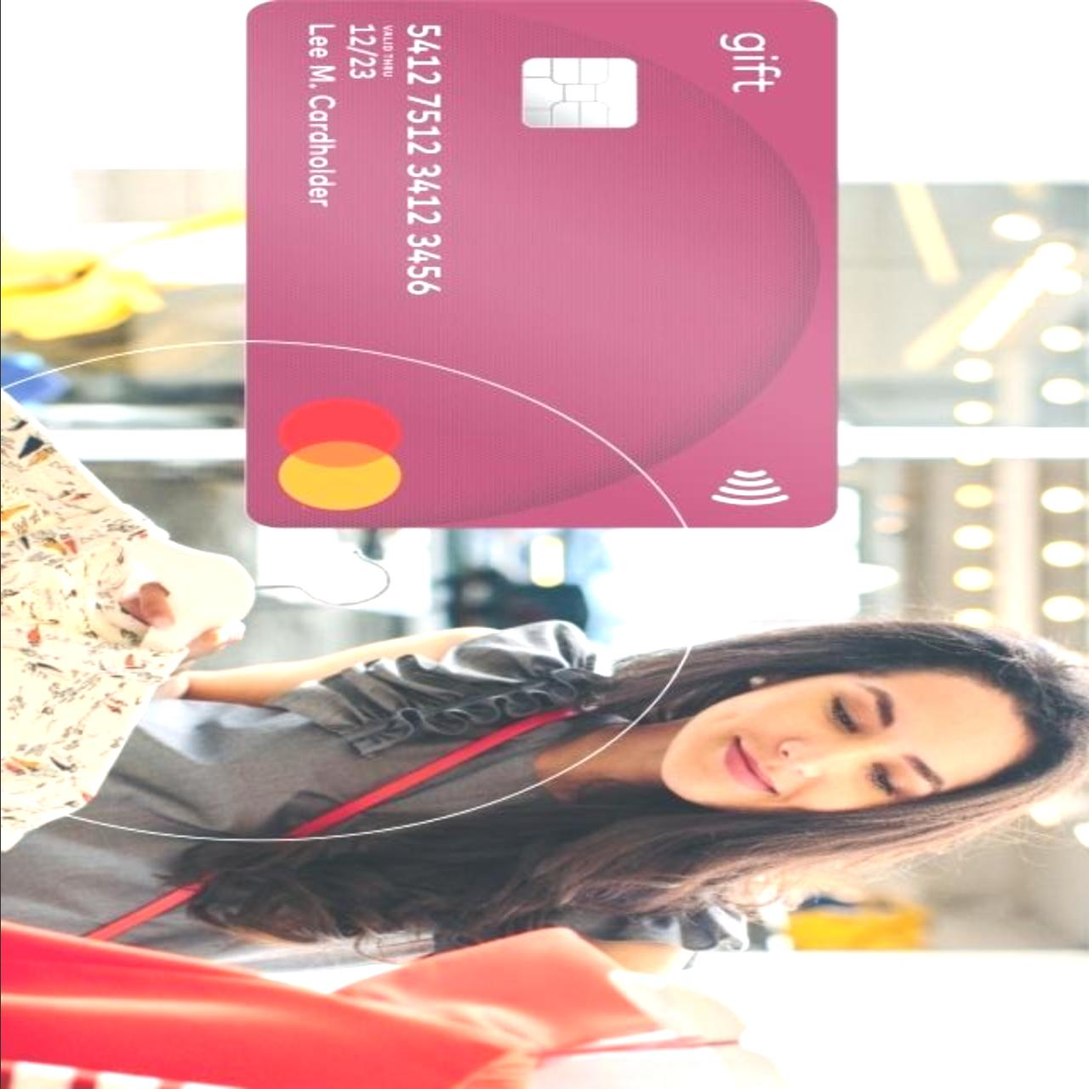credit_card: (231, 3, 854, 544)
